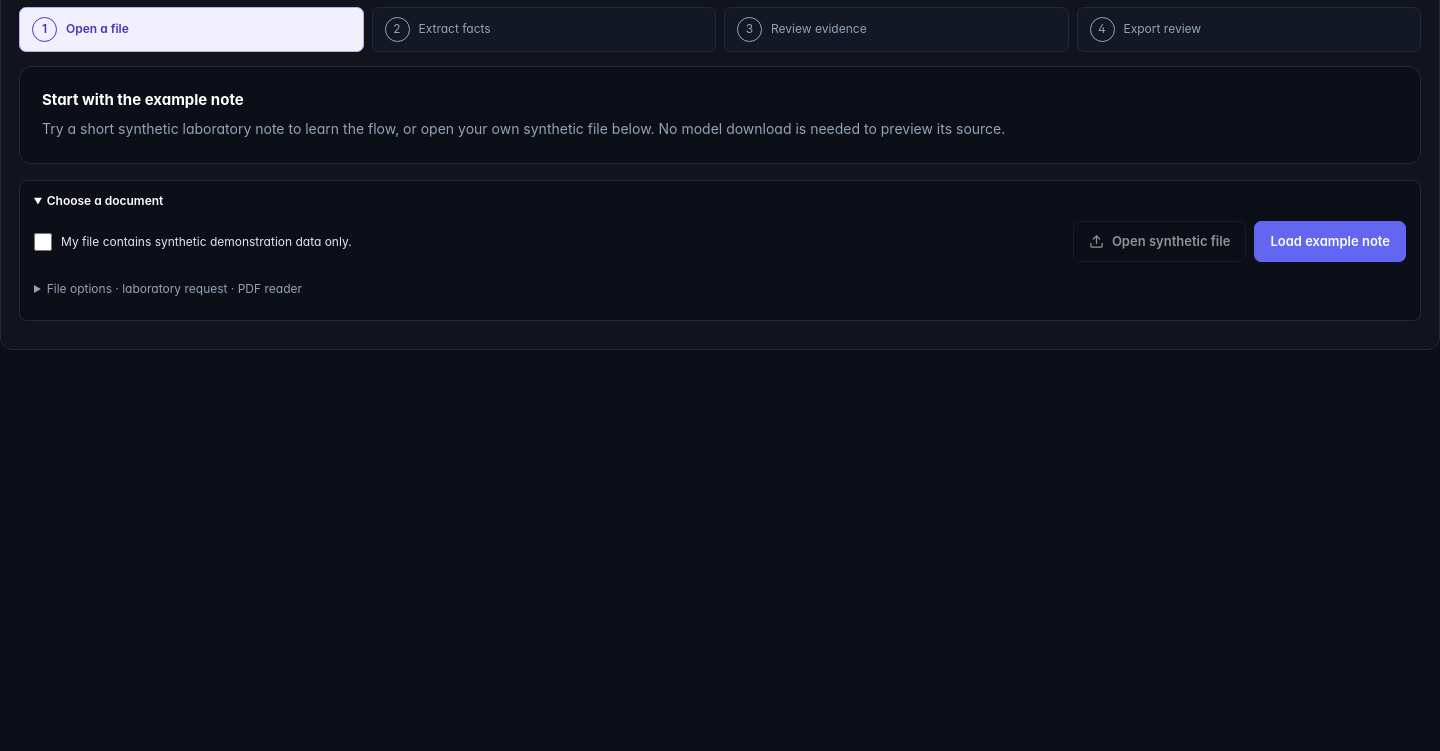
Test: discloses original source and unencrypted export before opening a save destination
This screenshot has width=1440, height=751.
Click the button "Load example note".
click(1330, 242)  # box [1254, 221, 1406, 262]
(page scrolled)
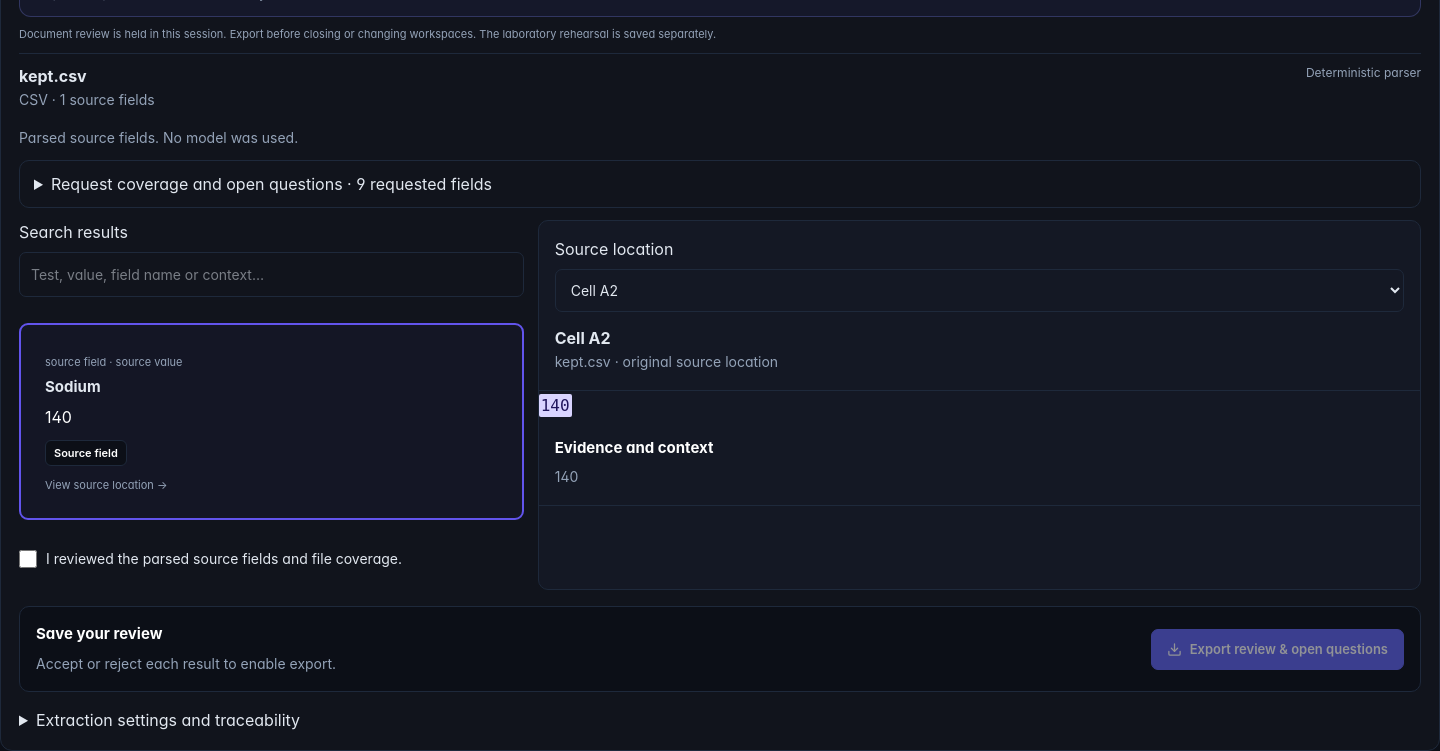
Check: the text "kept.csv" is shown, box [19, 66, 87, 86]
Check: the button "Export review & open questions" is disabled, box [1151, 629, 1404, 670]
Click the checkbox labelled "I reviewed the parsed source fields and file coverage.".
click(28, 559)  # box [19, 550, 37, 568]
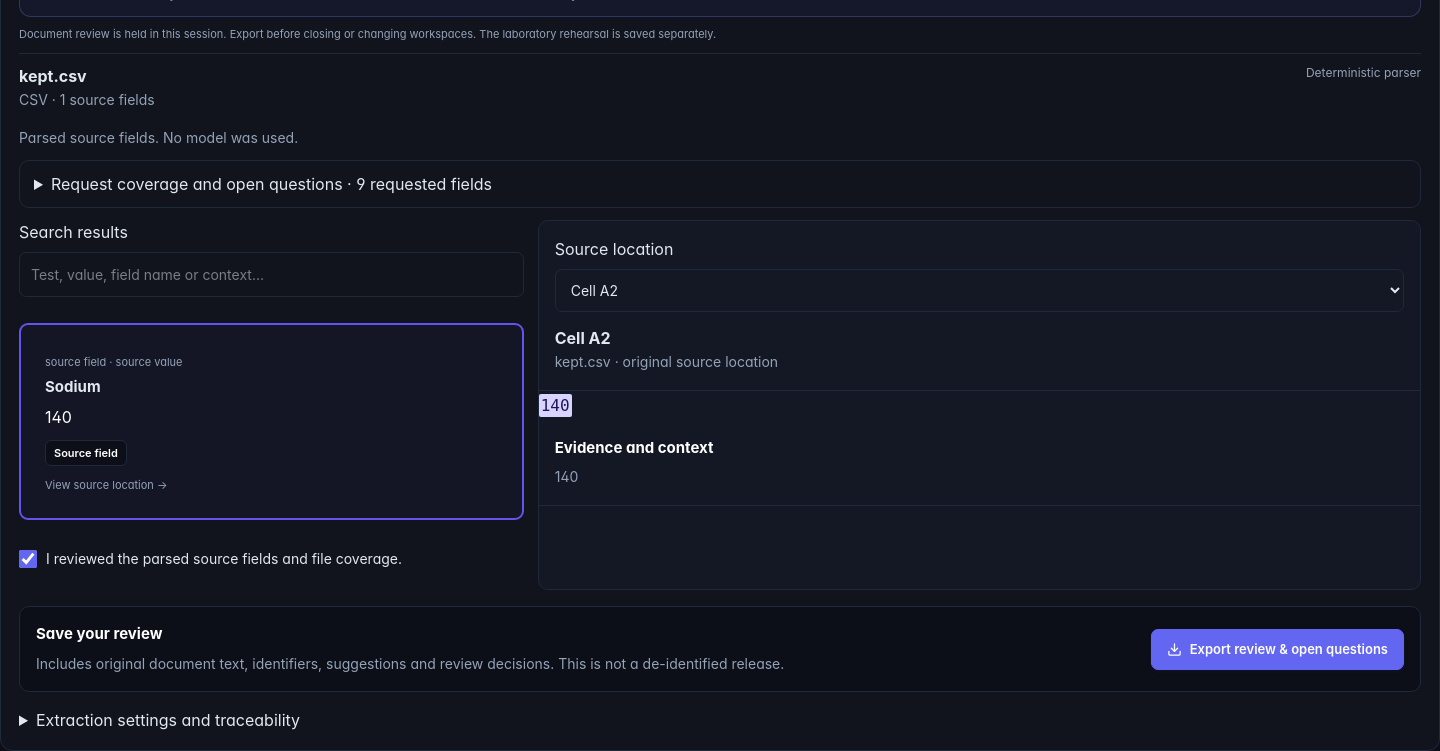
Click the button "Export review & open questions".
click(1277, 649)  # box [1151, 629, 1404, 670]
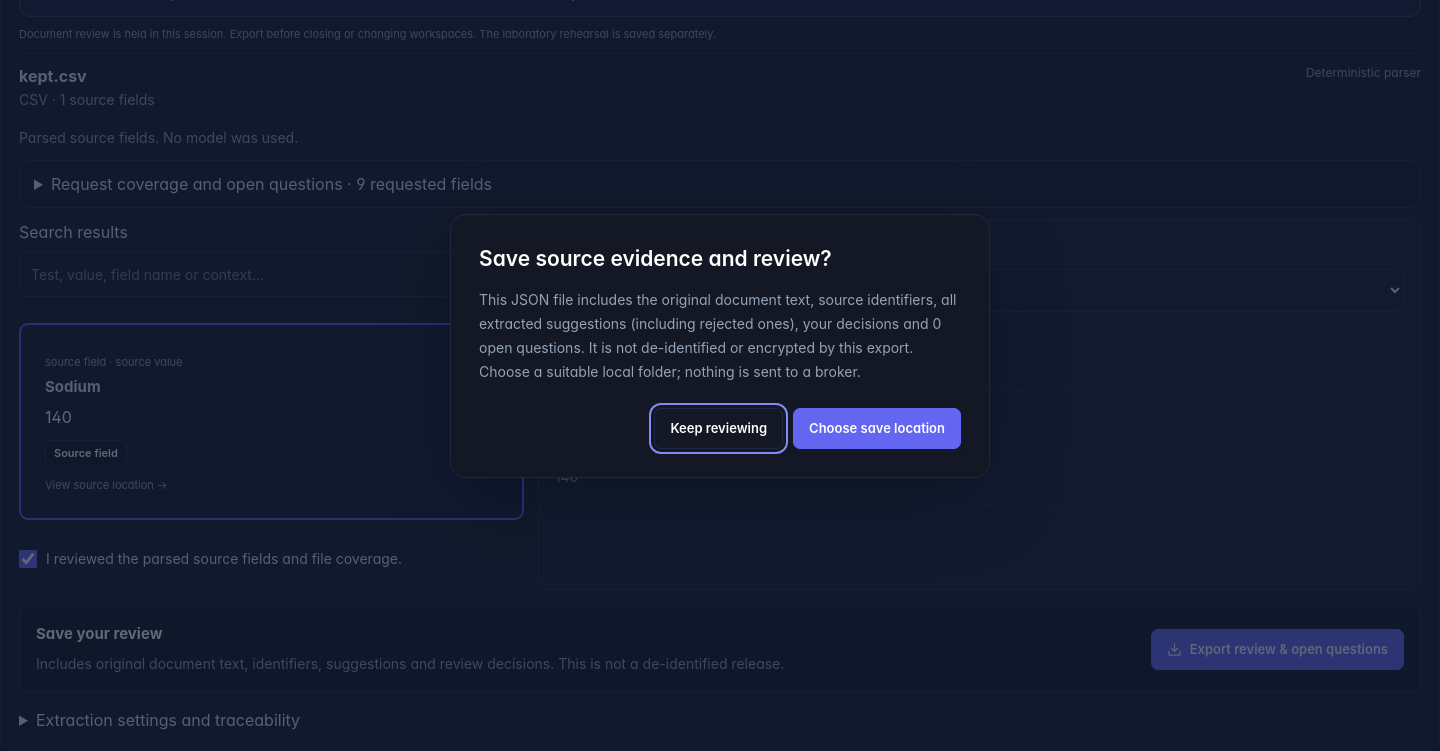
Check: the dialog shows "original document text", box [479, 291, 956, 380]
Check: the dialog shows "not de-identified or encrypted", box [479, 291, 956, 380]
Click the button "Keep reviewing".
click(719, 428)  # box [654, 408, 783, 449]
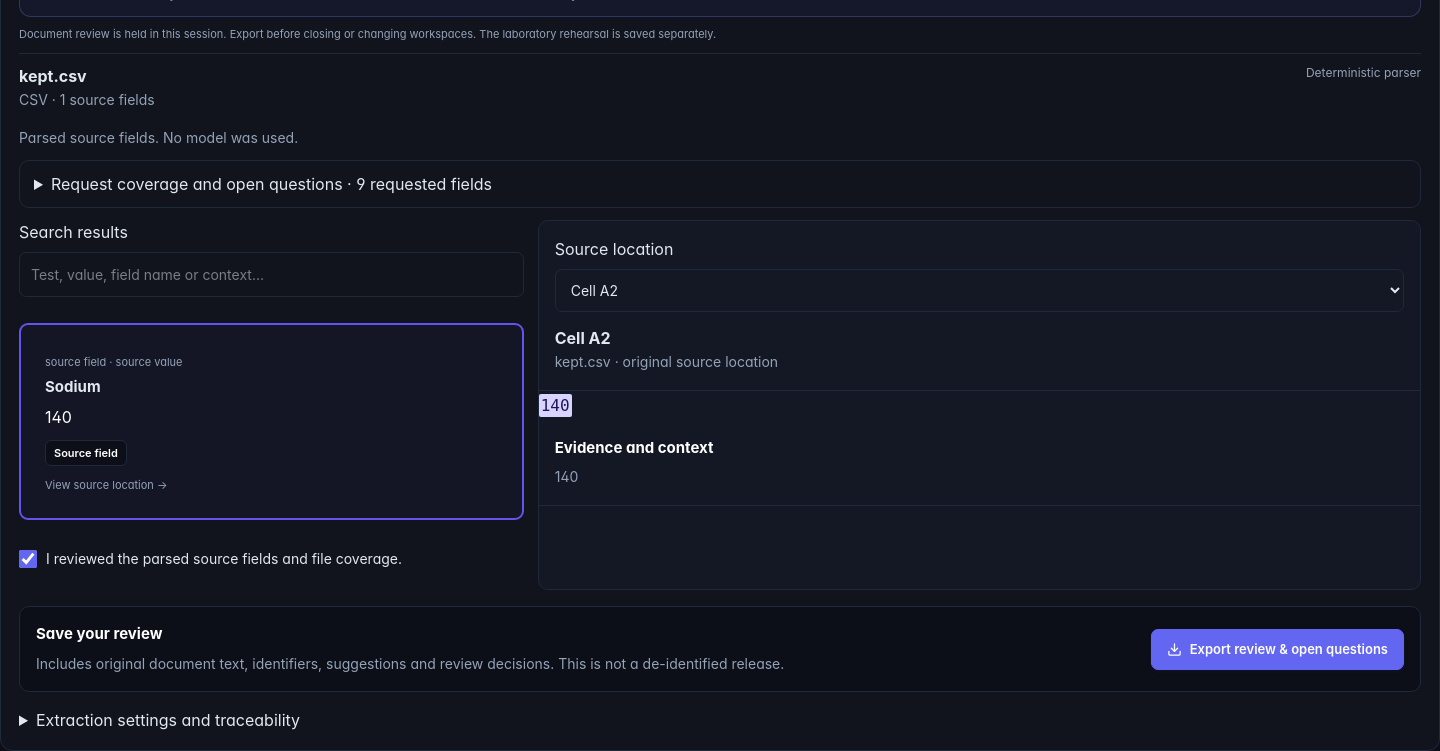
Check: the dialog is gone
